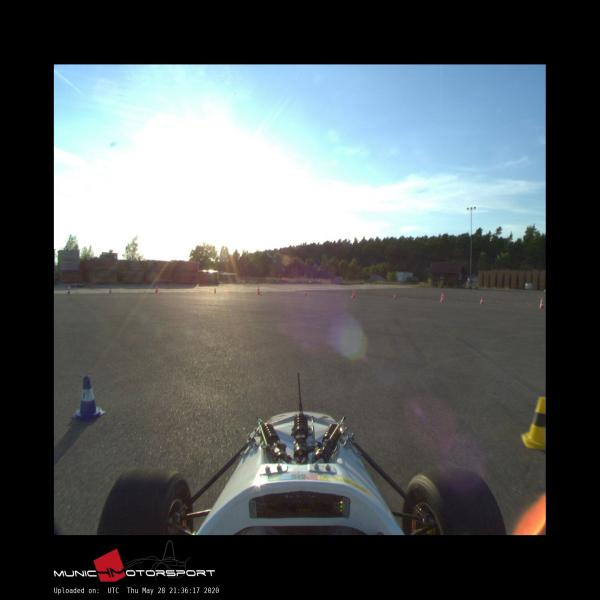blue_cone: (72, 375, 106, 421)
yellow_cone: (520, 397, 546, 451)
